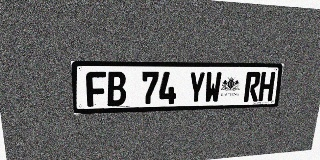4: (159, 72, 177, 104)
7: (141, 72, 159, 105)
B: (107, 72, 126, 106)
F: (86, 71, 107, 107)
H: (258, 72, 275, 101)
R: (243, 72, 261, 102)
W: (204, 72, 222, 103)
Y: (187, 72, 206, 104)
